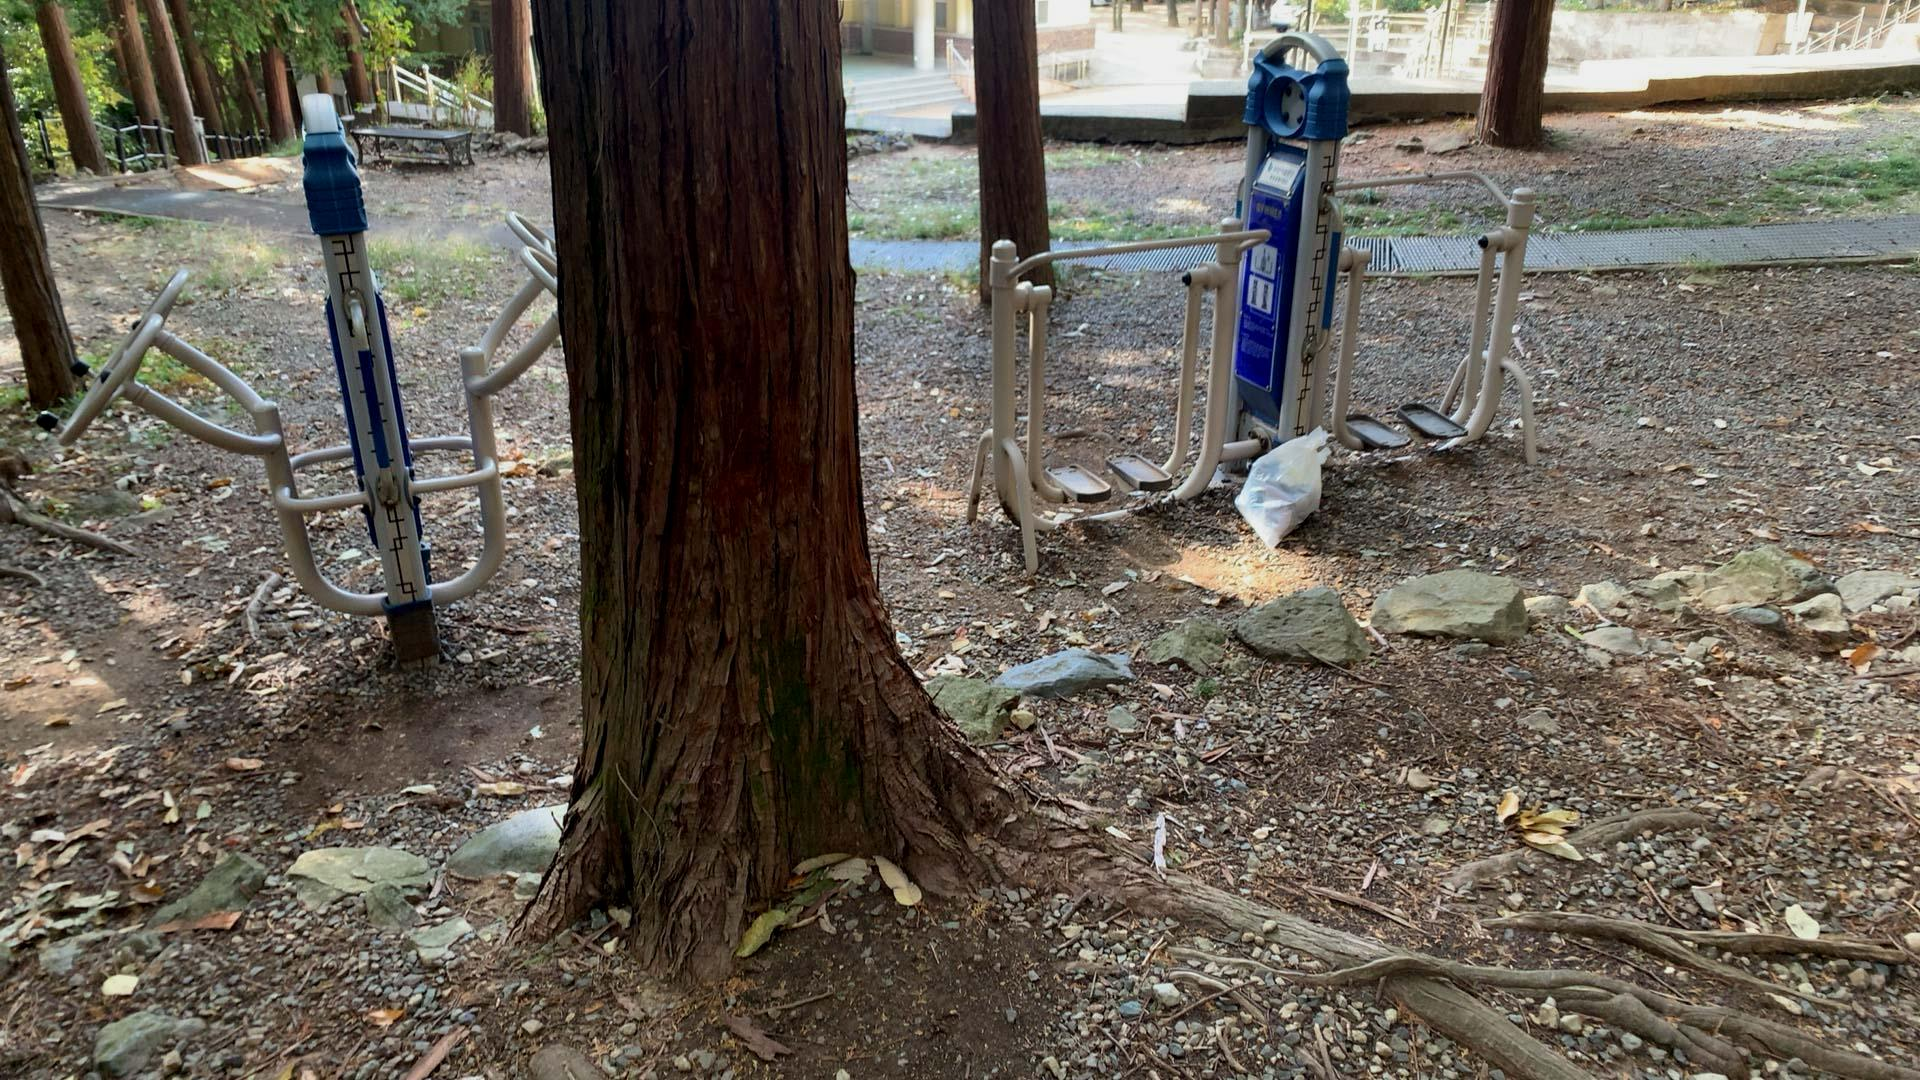white_bag: (1230, 419, 1340, 553)
